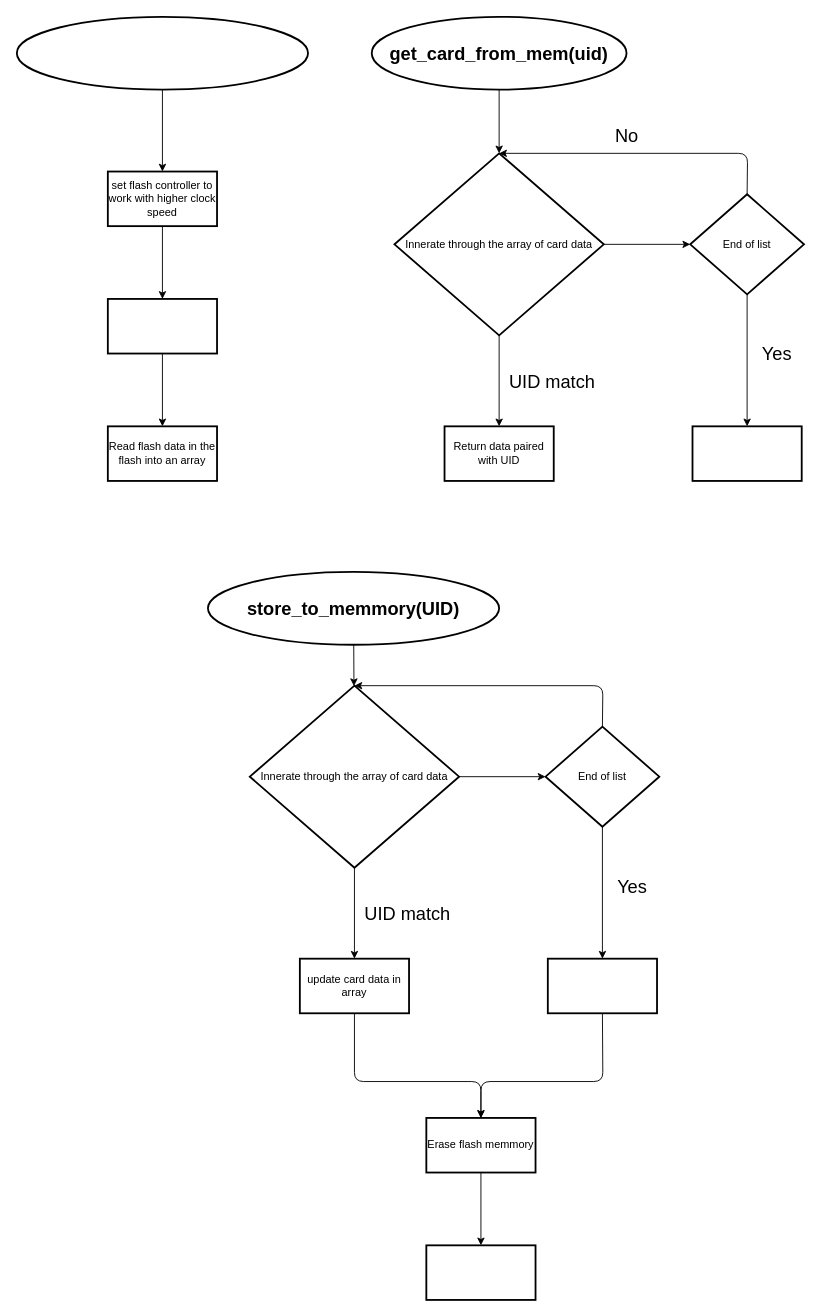
Some shapes in this 820 by 1316 pixel diagram are drawn without their labels. The shapes that lost their labels are listed below. From the top down, each one's centre as x and y in pixels, then its label:
[161,52]: init_flash_memory()
[161,326]: unprotect the flash memmory bank the card data is stored in
[746,453]: Return blank card
[601,985]: wright card data to array
[480,1272]: wright data array to flash
